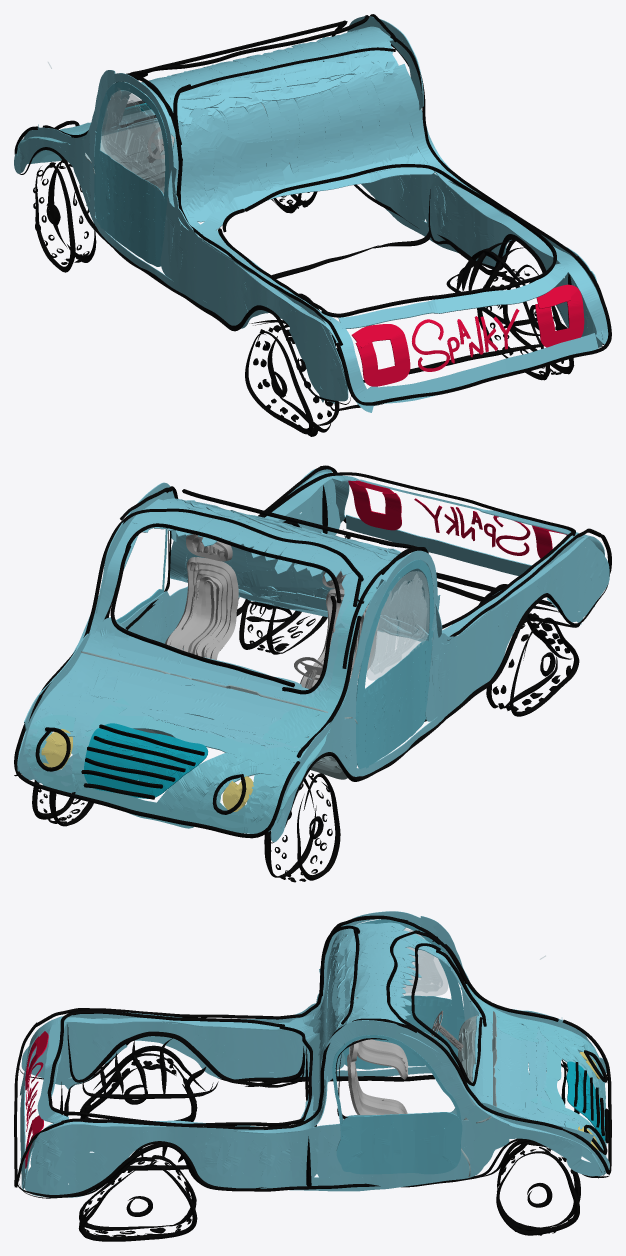
Rendered from TruckSketch.glb.
The picture shows the model from 3 angles, top to bottom: view 1: azimuth 30°, elevation 25°; view 2: azimuth 150°, elevation 25°; view 3: azimuth 270°, elevation 25°; orthographic projection. The views are drawn at different scales.
Visible parts, largest first — view 1: group_1, group_0; view 2: group_1, group_0; view 3: group_1, group_0.
Boxes of the visible parts, x1,y1,x2,y2 form: group_1: [14, 16, 608, 412]; group_0: [14, 14, 611, 436]; group_1: [17, 469, 609, 842]; group_0: [14, 465, 611, 882]; group_1: [20, 911, 609, 1197]; group_0: [14, 915, 611, 1241].
Bounding box in the file's own units: 5.01 × 4.23 × 10.39.
